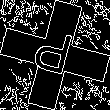P_S: (31, 26, 79, 84)
